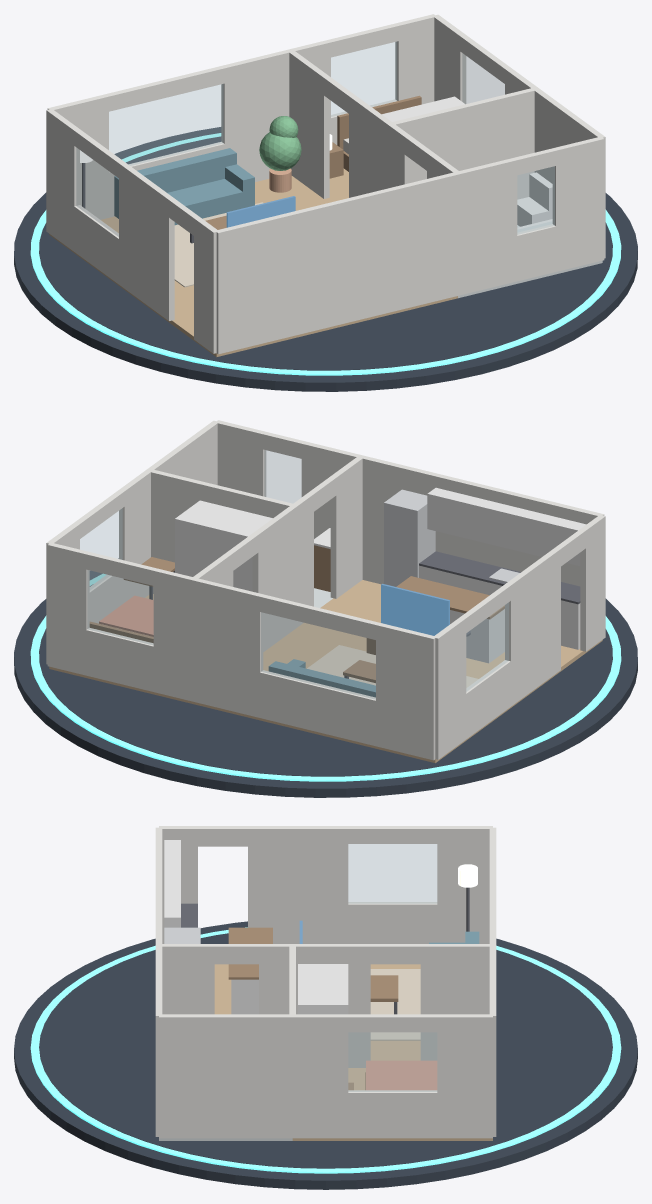
Rendered from apartment.glb.
The picture shows the model from 3 angles, top to bottom: view 1: azimuth 30°, elevation 25°; view 2: azimuth 150°, elevation 25°; view 3: azimuth 270°, elevation 25°; orthographic projection.
Parts seen in each view (by area): view 1: n16, n3, n1, n38, n11, n25, n10, n20, n2, n35, n33, n21 (+31 smaller); view 2: n3, n1, n11, n16, n7, n10, n25, n35, n58, n4, n8, n32 (+35 smaller); view 3: n3, n32, n1, n25, n28, n2, n35, n21, n33, n31, n24, n29 (+21 smaller).
Part boxes in pixels (box(x1,y1,x2,y2)): n16: box(215, 158, 517, 354); n3: box(39, 136, 612, 370); n1: box(14, 127, 637, 391); n38: box(391, 88, 535, 199); n11: box(221, 40, 330, 181); n25: box(119, 162, 174, 320); n10: box(109, 84, 223, 165); n20: box(552, 137, 604, 271); n2: box(30, 133, 621, 375); n35: box(349, 95, 410, 197); n33: box(288, 50, 329, 198); n21: box(46, 109, 79, 251); n3: box(39, 584, 612, 776); n1: box(14, 558, 637, 797); n11: box(153, 568, 263, 717); n16: box(301, 441, 604, 586); n7: box(376, 622, 435, 760); n10: box(261, 612, 375, 699); n25: box(505, 547, 560, 706); n35: box(252, 492, 313, 651); n58: box(427, 487, 586, 566); n4: box(194, 580, 602, 763); n8: box(260, 670, 375, 746); n32: box(119, 420, 218, 602); n3: box(39, 933, 612, 1168); n32: box(159, 1014, 348, 1138); n1: box(14, 921, 637, 1189); n25: box(248, 826, 348, 943); n28: box(437, 1014, 492, 1138); n2: box(30, 927, 621, 1173); n35: box(259, 944, 370, 1067); n21: box(437, 826, 492, 943); n33: box(420, 944, 492, 1060); n31: box(348, 1032, 436, 1091); n24: box(348, 844, 436, 903); n29: box(348, 1090, 437, 1138).
Bounding box in the file's own units: 0.448 × 0.108 × 0.448.
